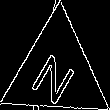N_NE: (29, 39, 84, 103)
